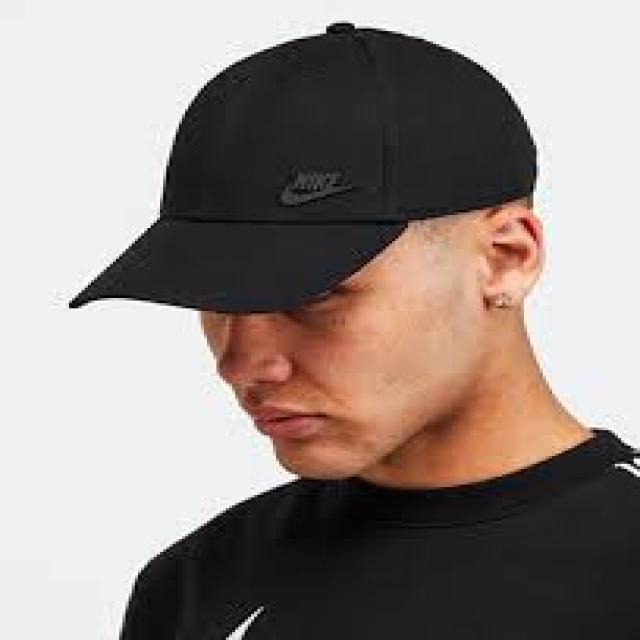cap: (30, 11, 592, 342)
